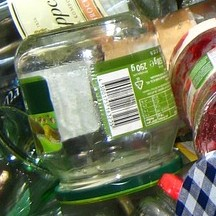garbage: (3, 2, 215, 215)
